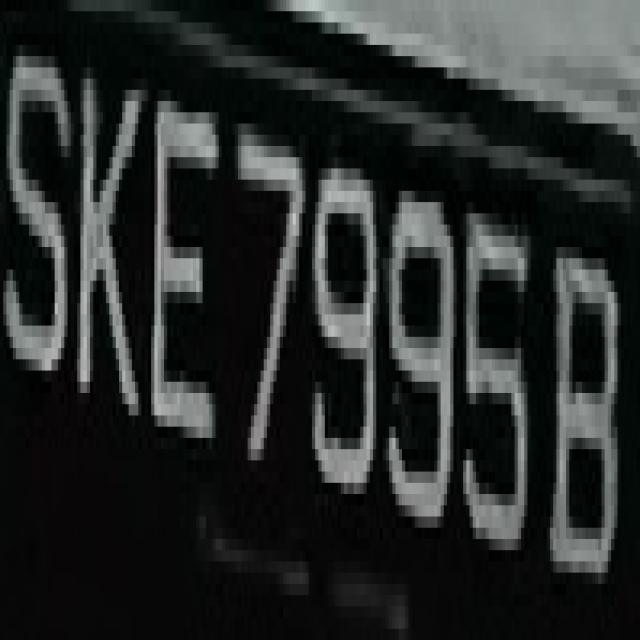5: (460, 191, 534, 584)
7: (219, 90, 299, 505)
9: (373, 157, 460, 584), (299, 123, 386, 506)
B: (544, 224, 627, 584)
E: (135, 67, 225, 483)
K: (65, 45, 142, 404)
S: (10, 0, 70, 404)
